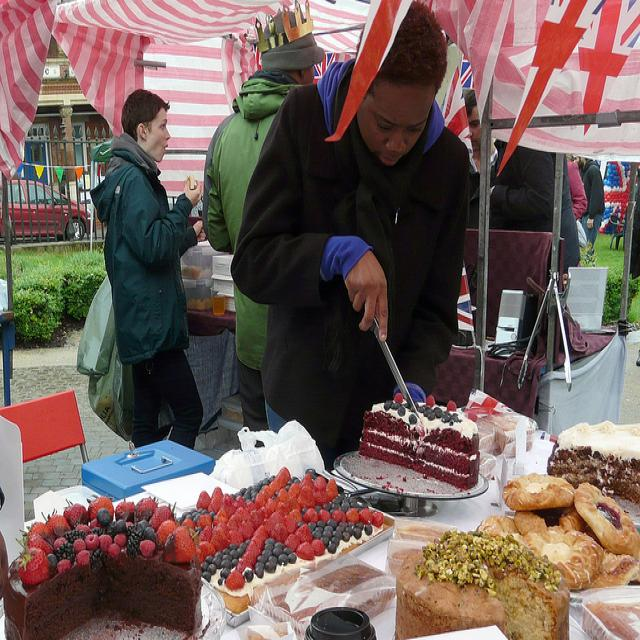Vehicle: (0, 180, 93, 240)
